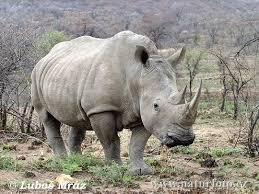Rhinoceros: (27, 32, 203, 178)
